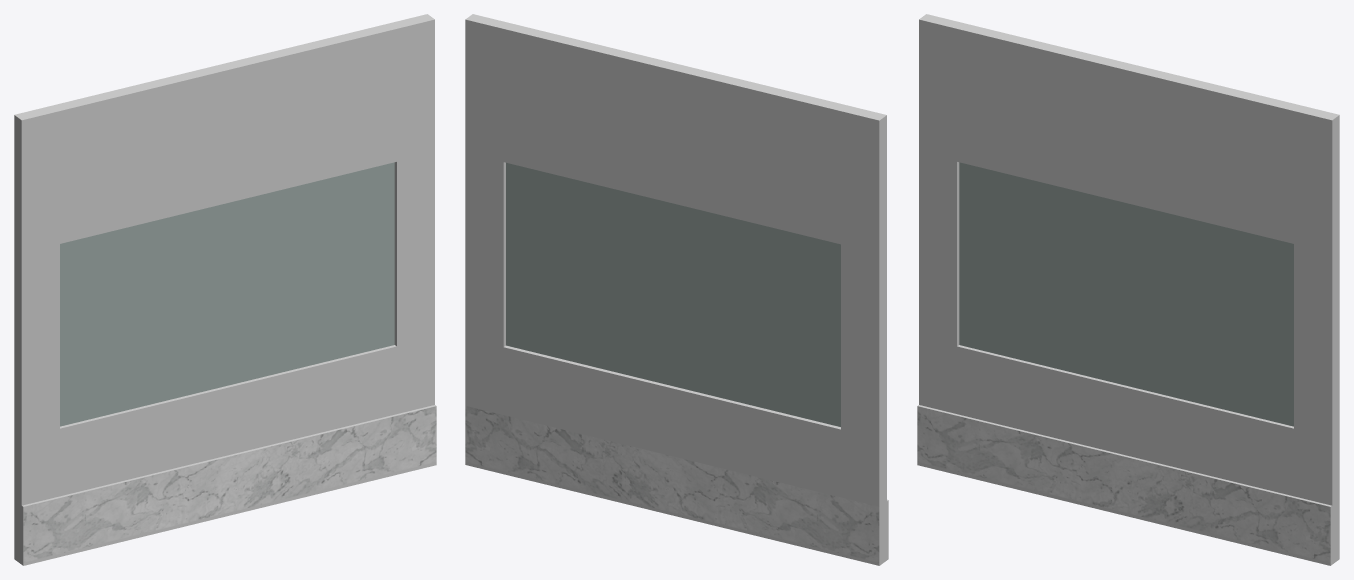
The model's file is fbx_restaurant_wall2.fbx.
The picture shows the model from 3 angles, left to right: view 1: azimuth 30°, elevation 25°; view 2: azimuth 150°, elevation 25°; view 3: azimuth 330°, elevation 25°; orthographic projection.
Parts seen in each view (by area): view 1: fbx_restaurant_wall2; view 2: fbx_restaurant_wall2; view 3: fbx_restaurant_wall2.
Boxes of the visible parts, x1,y1,x2,y2 form: fbx_restaurant_wall2: (14,14,436,565); fbx_restaurant_wall2: (465,14,888,565); fbx_restaurant_wall2: (917,14,1339,565).
Size of the model in its own units: 6.49 by 6.67 by 0.2511.
2 materials, 1 textured.
